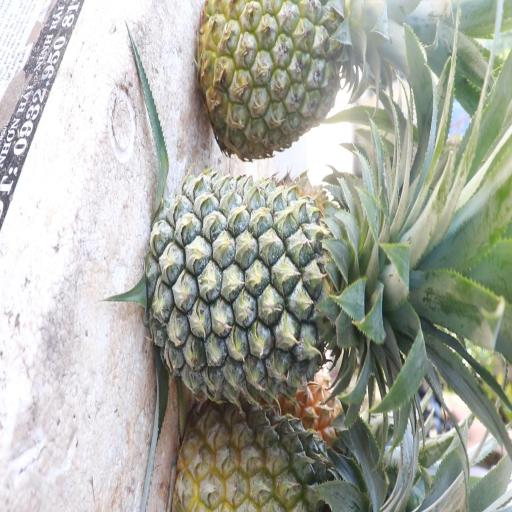------------------------------: (200, 0, 352, 163), (182, 389, 365, 512)
